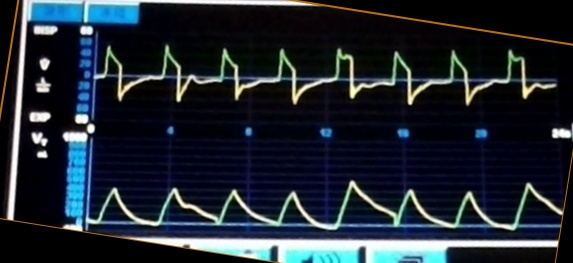Premature_cycling Flow: (98, 38, 553, 117)
Premature_cycling Volume: (91, 159, 559, 232)
